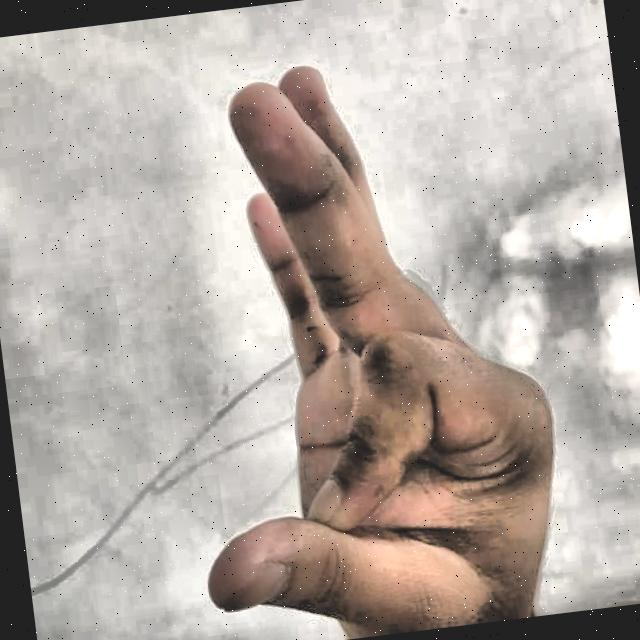Uo: (58, 9, 605, 640)
